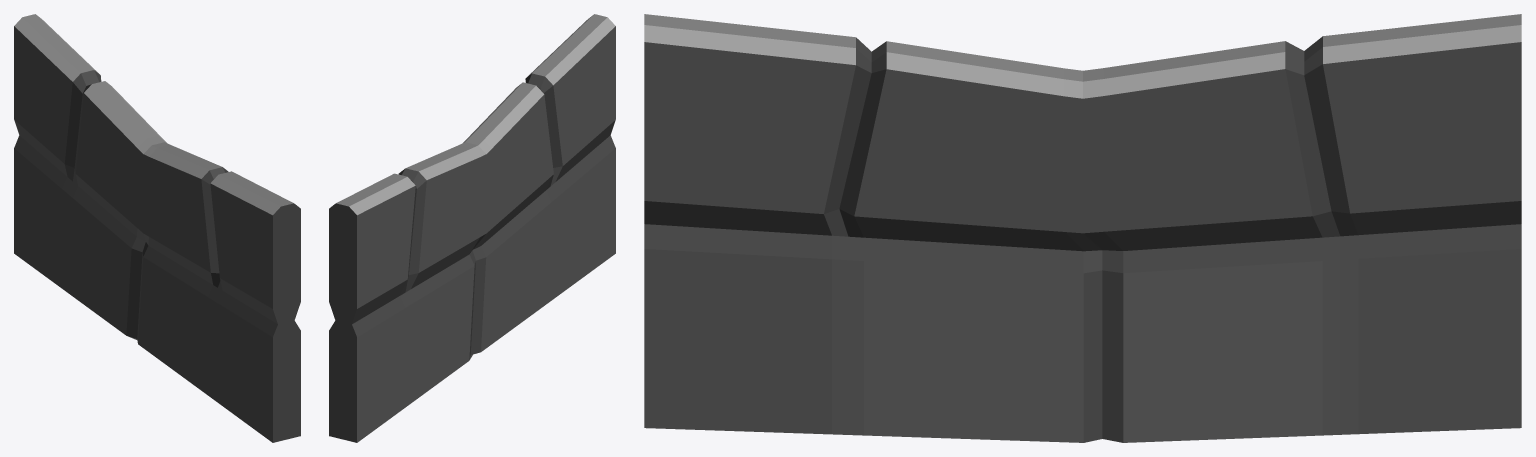
Rendered from wall.obj.
3 renders of one model, left to right at view 1: azimuth 30°, elevation 25°; view 2: azimuth 150°, elevation 25°; view 3: azimuth 270°, elevation 25°, orthographic. The views are drawn at different scales.
Visible parts, largest first — view 1: Cube.004; view 2: Cube.004; view 3: Cube.004.
Boxes of the visible parts, x1=… form: Cube.004: x1=14, y1=14, x2=300, y2=442; Cube.004: x1=329, y1=14, x2=615, y2=442; Cube.004: x1=644, y1=14, x2=1521, y2=442.
Bounding box in the file's own units: 13.14 × 64 × 128.
Materials: 1 (1 with a texture image).
